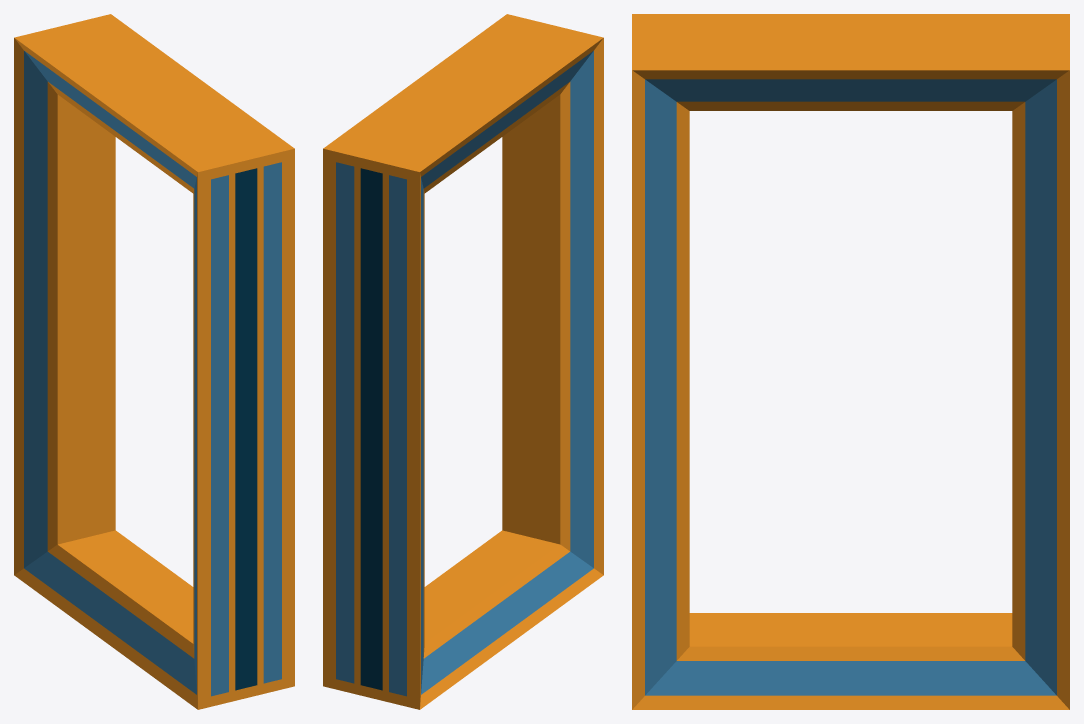
Rendered from dubaiFrame.FBX.
3 views of the same model, side by side, from view 1: azimuth 30°, elevation 25°; view 2: azimuth 150°, elevation 25°; view 3: azimuth 270°, elevation 25° (orthographic). The views are drawn at different scales.
Parts seen in each view (by area): view 1: dubaiFrame; view 2: dubaiFrame; view 3: dubaiFrame.
Boxes of the visible parts, box(x1,y1,x2,y2) form: dubaiFrame: box(14, 14, 294, 709); dubaiFrame: box(323, 14, 603, 709); dubaiFrame: box(632, 14, 1069, 709).
Size of the model in its own units: 0.5507 by 2.92 by 1.81.
